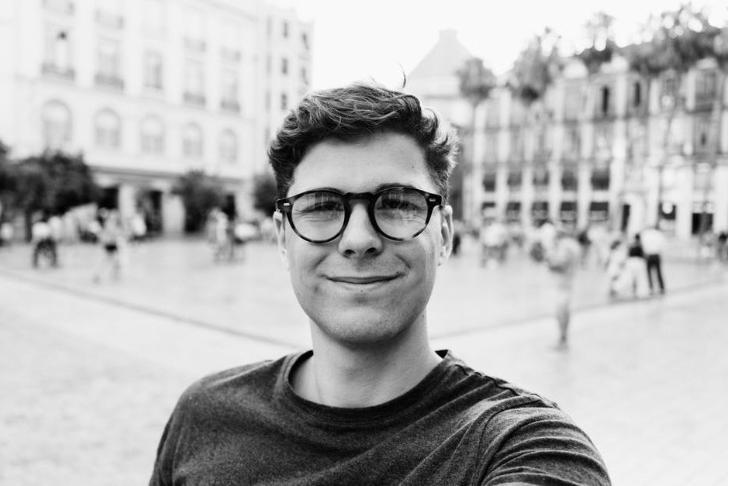face: (290, 131, 436, 339)
